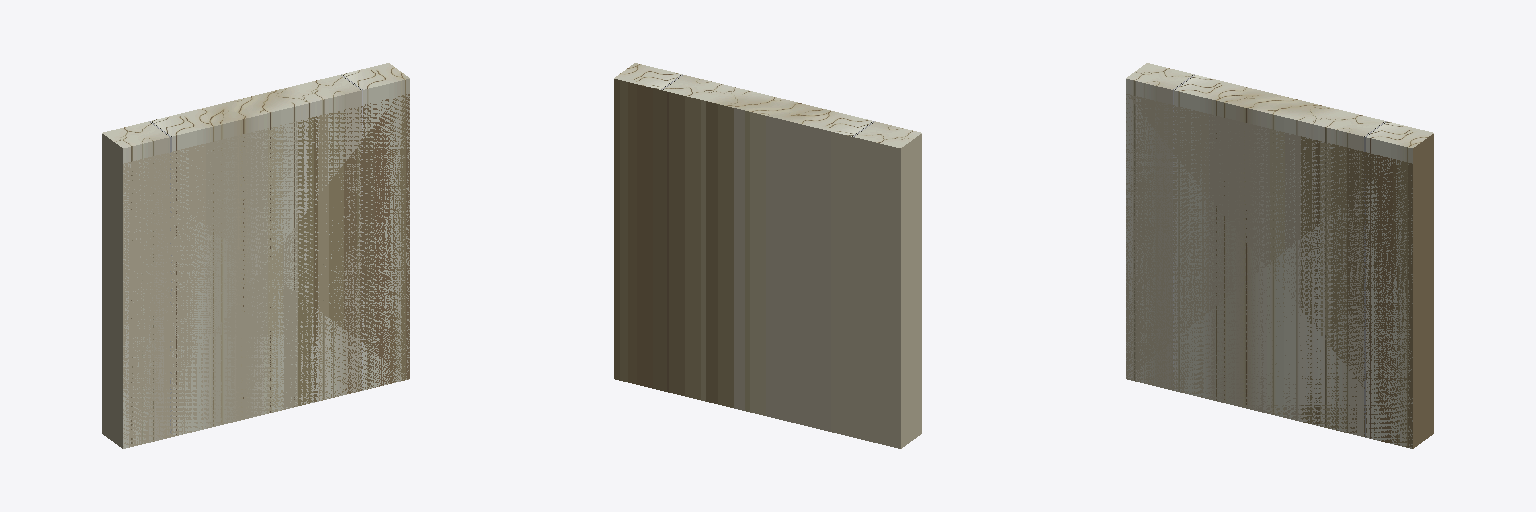
The picture shows the model from 3 angles: view 1: azimuth 30°, elevation 25°; view 2: azimuth 150°, elevation 25°; view 3: azimuth 330°, elevation 25°; orthographic projection.
Visible parts, largest first — view 1: Box011; view 2: Box011; view 3: Box011.
Part boxes in pixels (bbox=[...]): Box011: bbox=[102, 63, 409, 448]; Box011: bbox=[614, 63, 921, 448]; Box011: bbox=[1126, 63, 1433, 448].
Bounding box in the file's own units: 118 × 118 × 15.29.
1 materials, 1 textured.